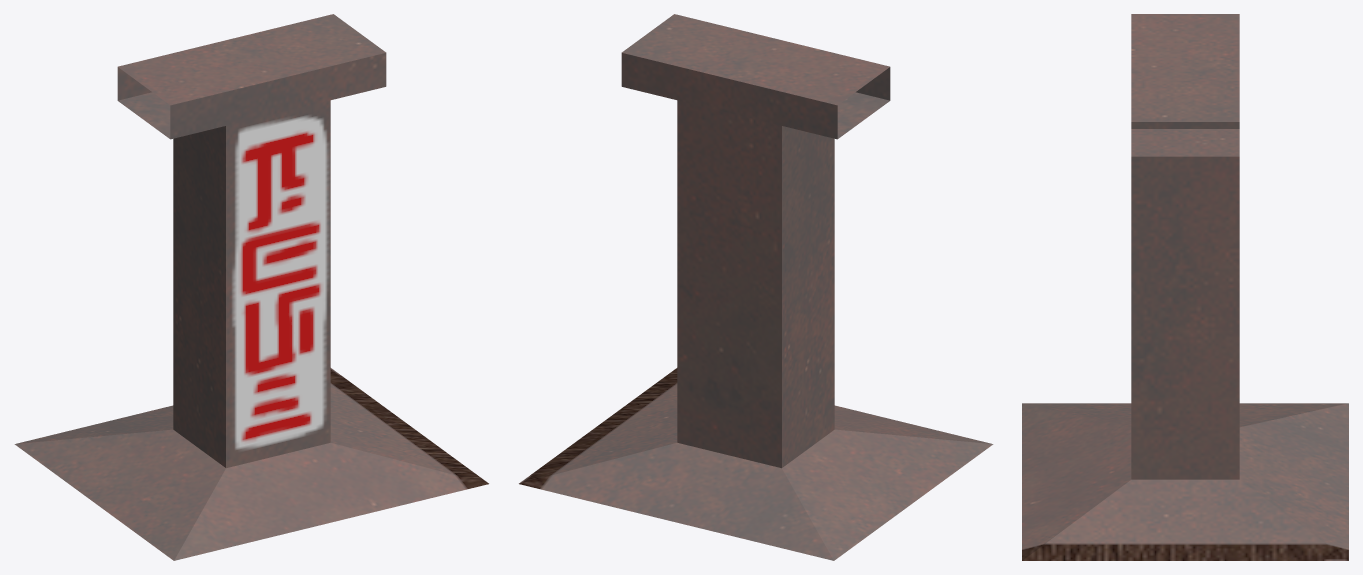
File: sosten_Escopetas.glb
The picture shows the model from 3 angles, left to right: view 1: azimuth 30°, elevation 25°; view 2: azimuth 150°, elevation 25°; view 3: azimuth 270°, elevation 25°; orthographic projection. The views are drawn at different scales.
Visible parts, largest first — view 1: Cube.002; view 2: Cube.002; view 3: Cube.002.
Boxes of the visible parts, x1=… form: Cube.002: x1=14, y1=14, x2=488, y2=560; Cube.002: x1=519, y1=14, x2=993, y2=560; Cube.002: x1=1022, y1=14, x2=1348, y2=560.
Size of the model in its own units: 0.5998 by 0.7343 by 0.5252.
Materials: 1 (1 with a texture image).
